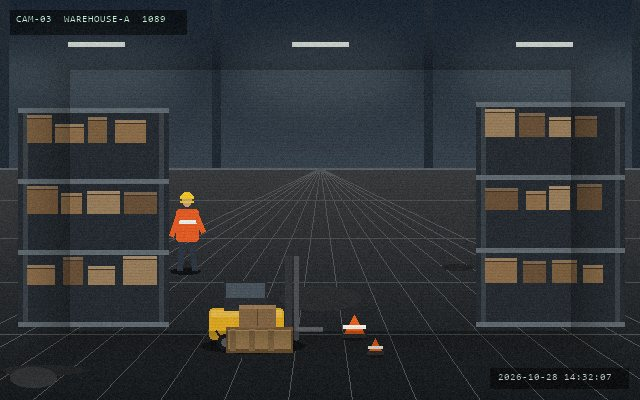cone: (341, 313, 367, 340), (366, 336, 384, 357)
forklift: (205, 254, 324, 353)
pallet: (224, 325, 294, 354)
person: (169, 190, 205, 273)
shelf: (476, 102, 624, 322), (18, 108, 168, 322)
